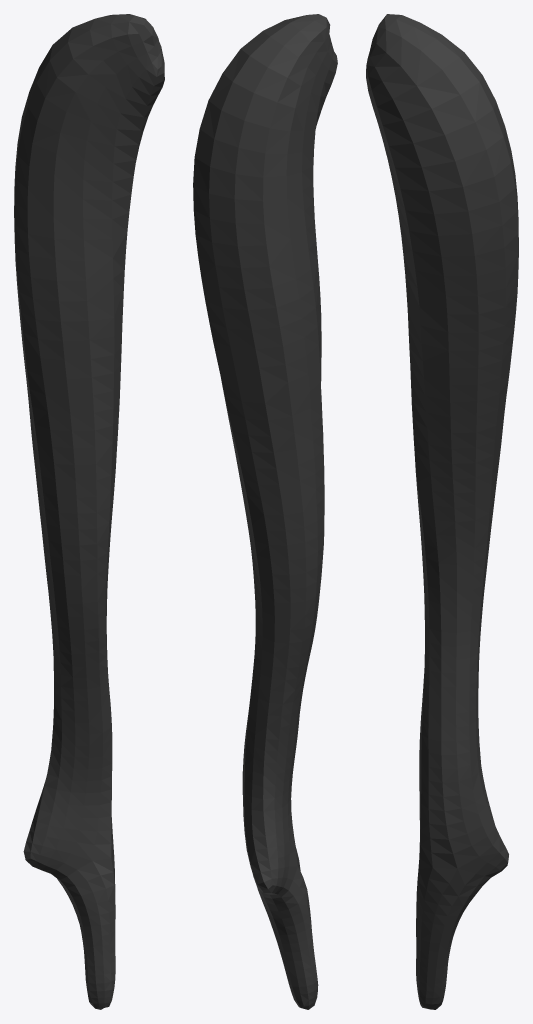
The model's file is Ulnaris_lateralis.glb.
3 renders of one model, left to right at view 1: azimuth 90°, elevation 25°; view 2: azimuth 150°, elevation 25°; view 3: azimuth 270°, elevation 25°, orthographic. The views are drawn at different scales.
Parts seen in each view (by area): view 1: Ulnaris_lateralis; view 2: Ulnaris_lateralis; view 3: Ulnaris_lateralis.
Boxes of the visible parts, x1,y1,x2,y2 form: Ulnaris_lateralis: (14, 14, 164, 1009); Ulnaris_lateralis: (193, 14, 337, 1009); Ulnaris_lateralis: (366, 14, 518, 1009).
Bounding box in the file's own units: 11.84 × 96.91 × 13.44.
1 material, 1 textured.
